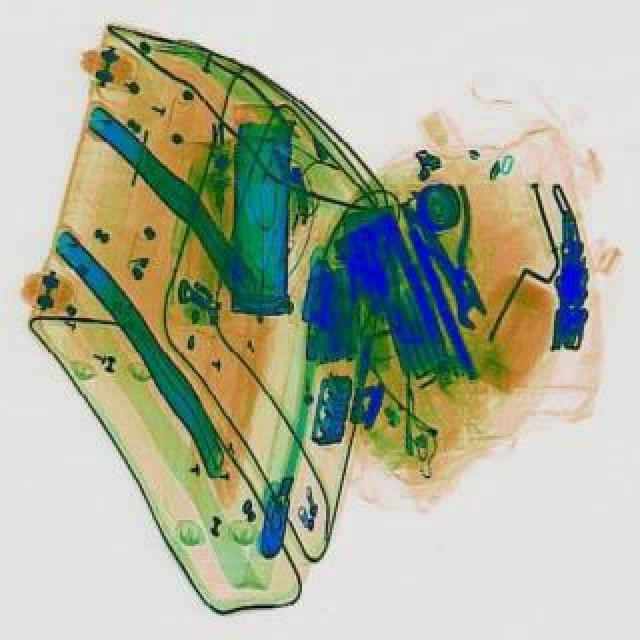scissors: (394, 194, 498, 338)
wrench: (398, 182, 506, 316)
